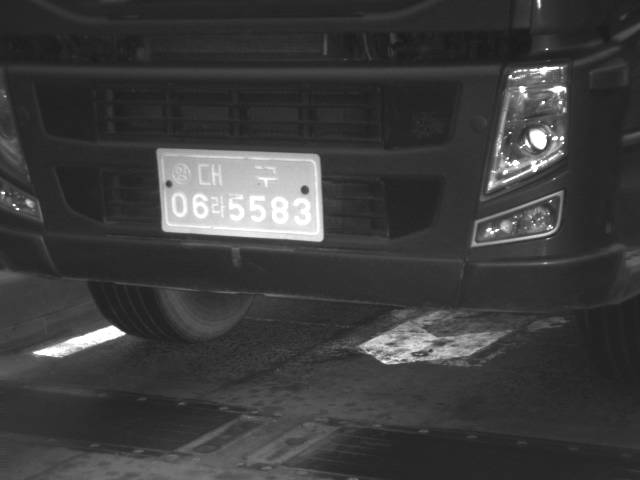car: (1, 1, 637, 380)
plate: (156, 147, 327, 243)
